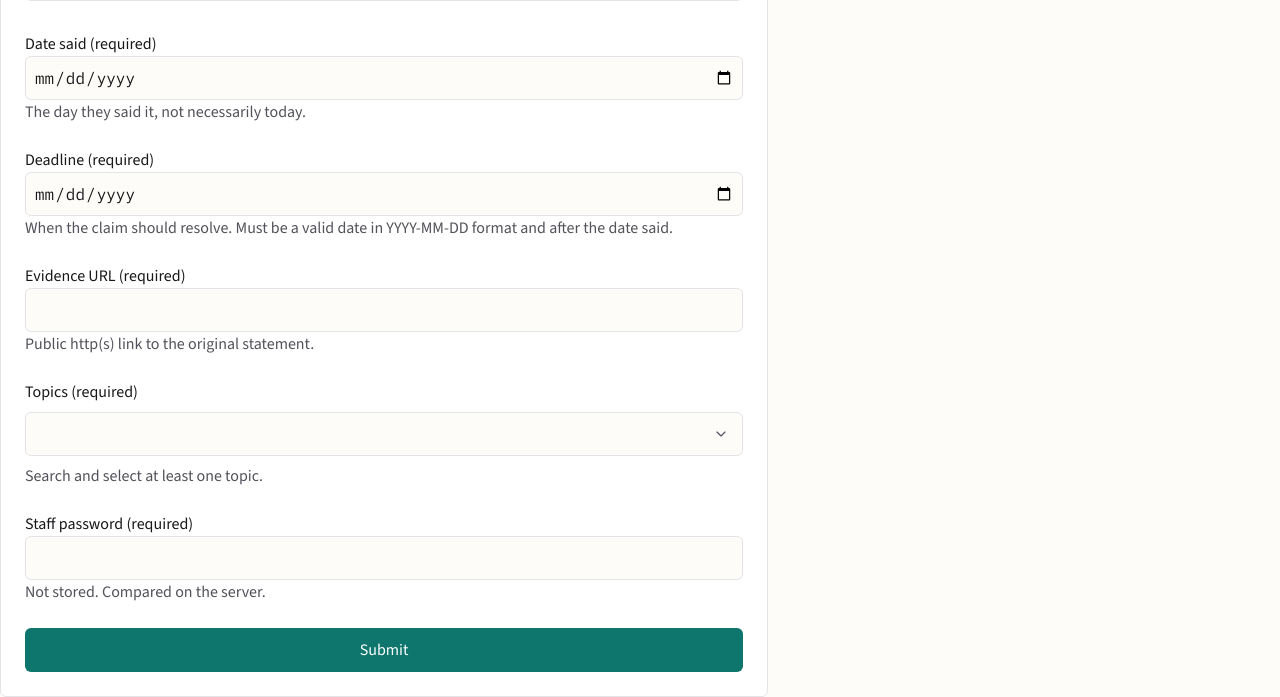
Scenario: StaffAddForm › given the topics field, should open the topic list from the dropdown button.
(page scrolled)
Click the button named "Topics". click: (721, 434)
box: [699,412,743,456]
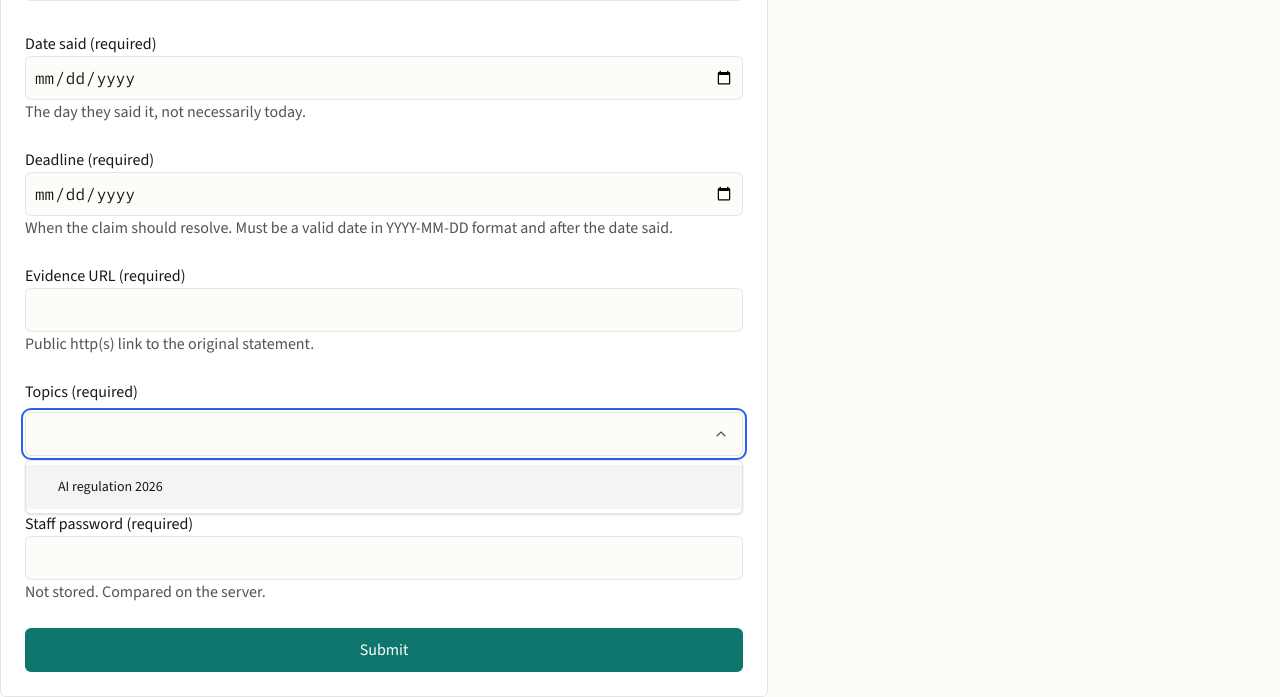
Expected: the option "AI regulation 2026" is shown, [26,465,742,509]
Expected: the button named "Topics" is expanded, [699,412,743,456]
Expected: the list named "Topics" is shown, [25,460,743,514]
